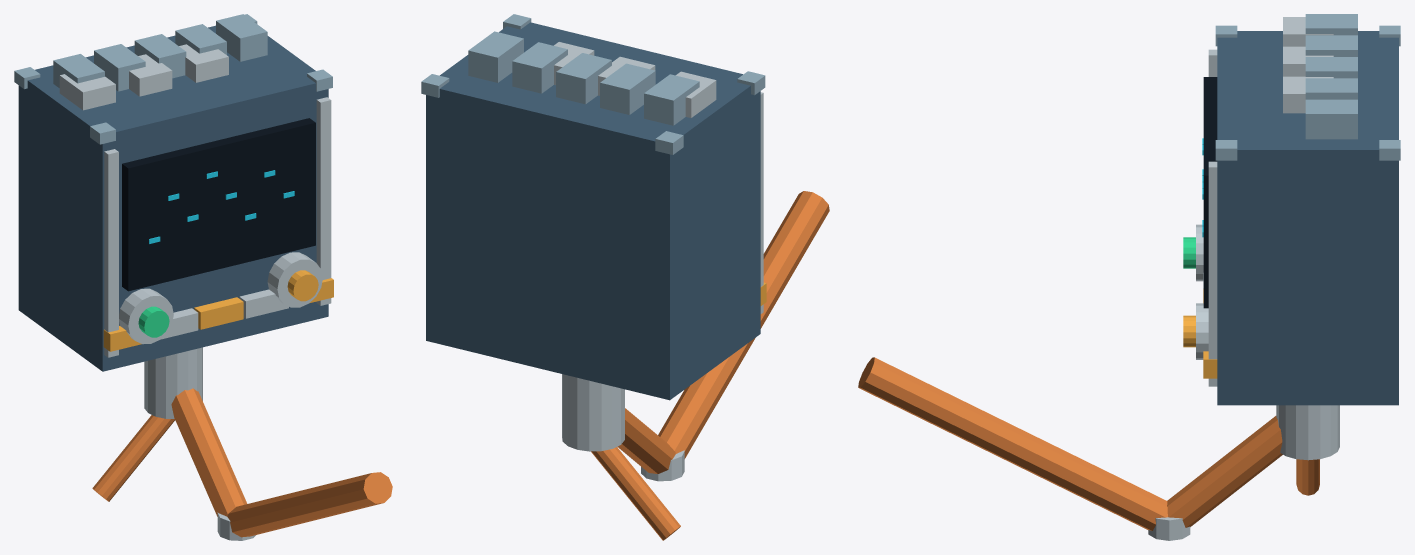
File: 35_L73_InterfaceTemperatureProbe.fbx
The picture shows the model from 3 angles, left to right: view 1: azimuth 30°, elevation 25°; view 2: azimuth 150°, elevation 25°; view 3: azimuth 270°, elevation 25°; orthographic projection. The views are drawn at different scales.
Visible parts, largest first — view 1: InterfaceTemperatureProbe; view 2: InterfaceTemperatureProbe; view 3: InterfaceTemperatureProbe.
Part boxes in pixels (box(x1,y1,x2,y2)): InterfaceTemperatureProbe: box(14, 14, 392, 540); InterfaceTemperatureProbe: box(421, 14, 829, 540); InterfaceTemperatureProbe: box(858, 14, 1400, 540).
Size of the model in its own units: 46.05 by 82.54 by 85.97.
